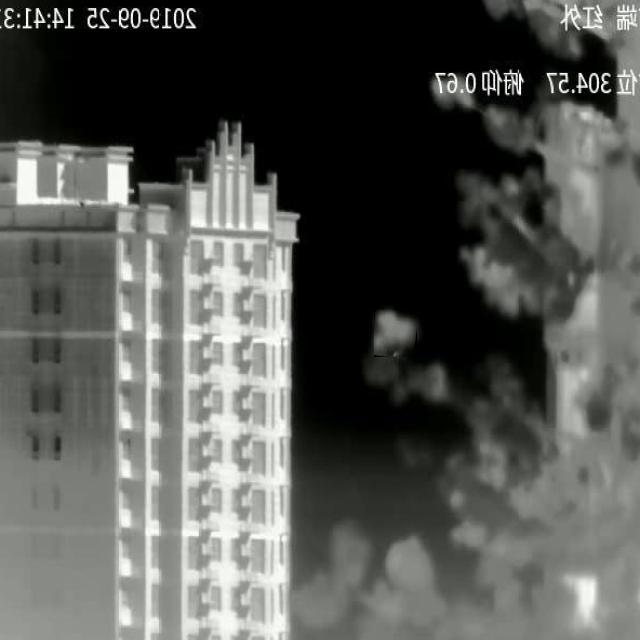drone: (374, 310, 417, 357)
